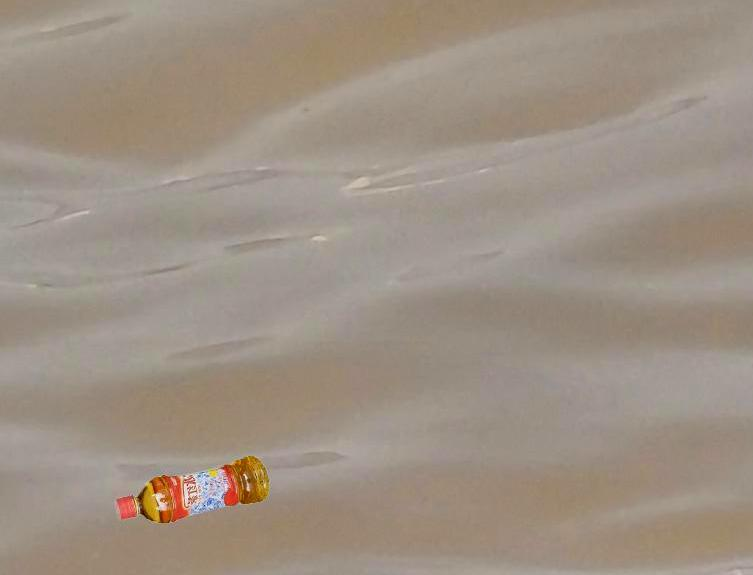Plastic: (115, 455, 267, 531)
